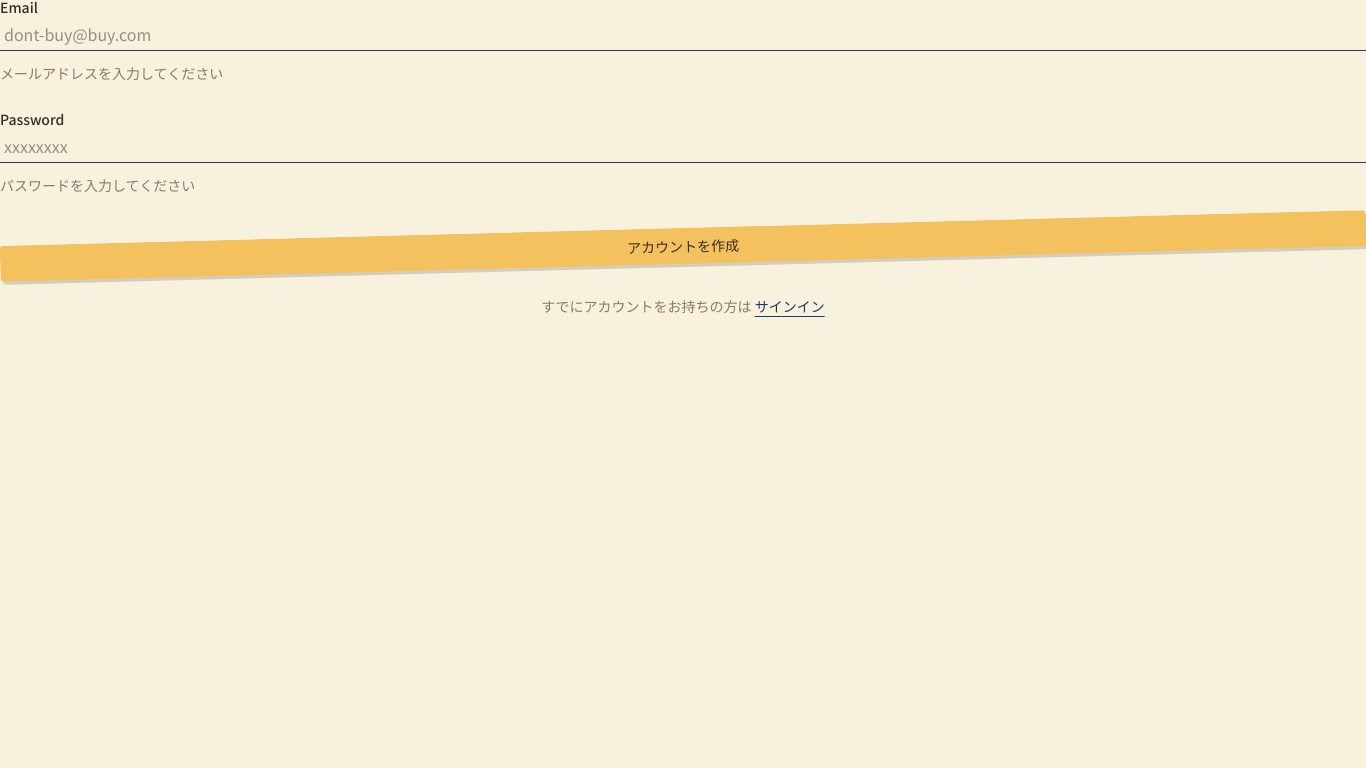
サインアップ › サインアップボタン押下後、エラーの場合トースト通知が表示される
Type "test@email.com" into the field labelled "Email" at (683, 34), box left=0, top=18, right=1365, bottom=50
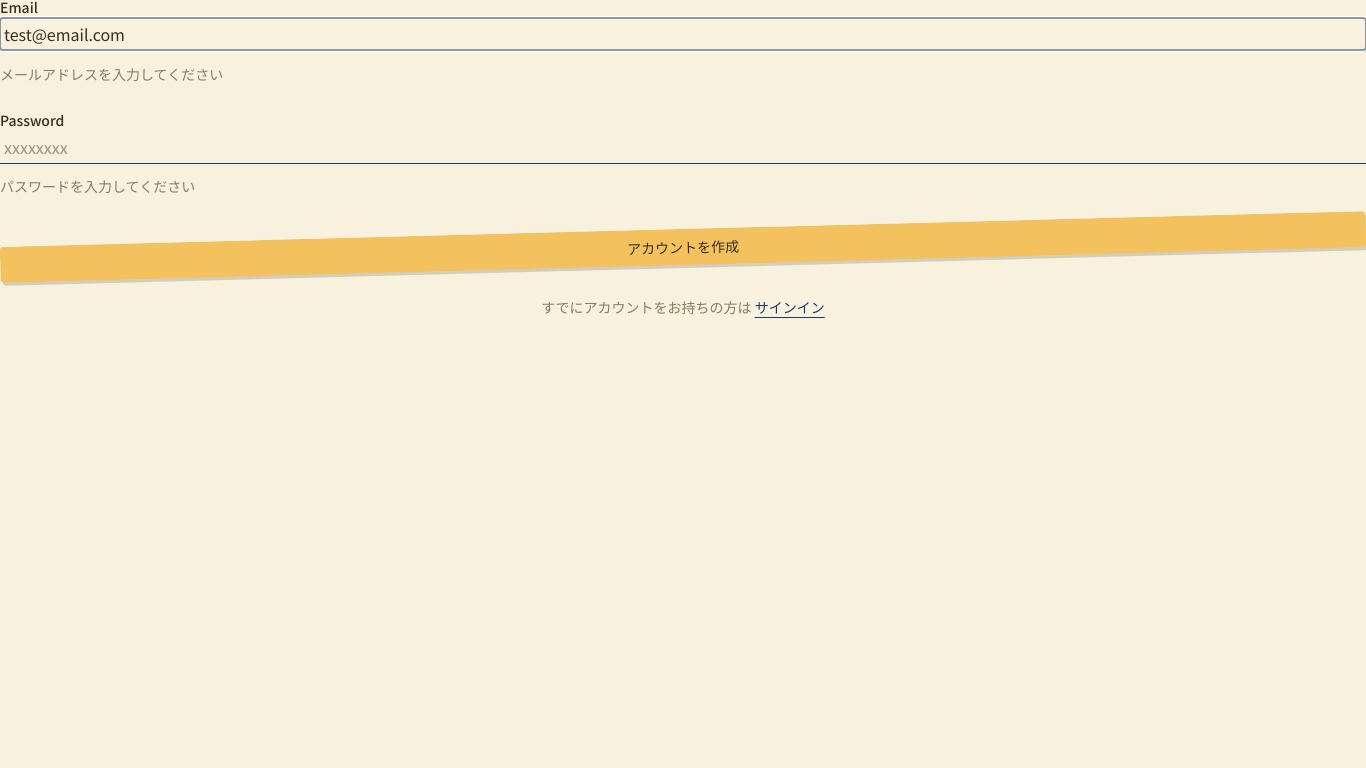
Type "test1234" into the password field labelled "Password" at (683, 147), box left=0, top=131, right=1365, bottom=163
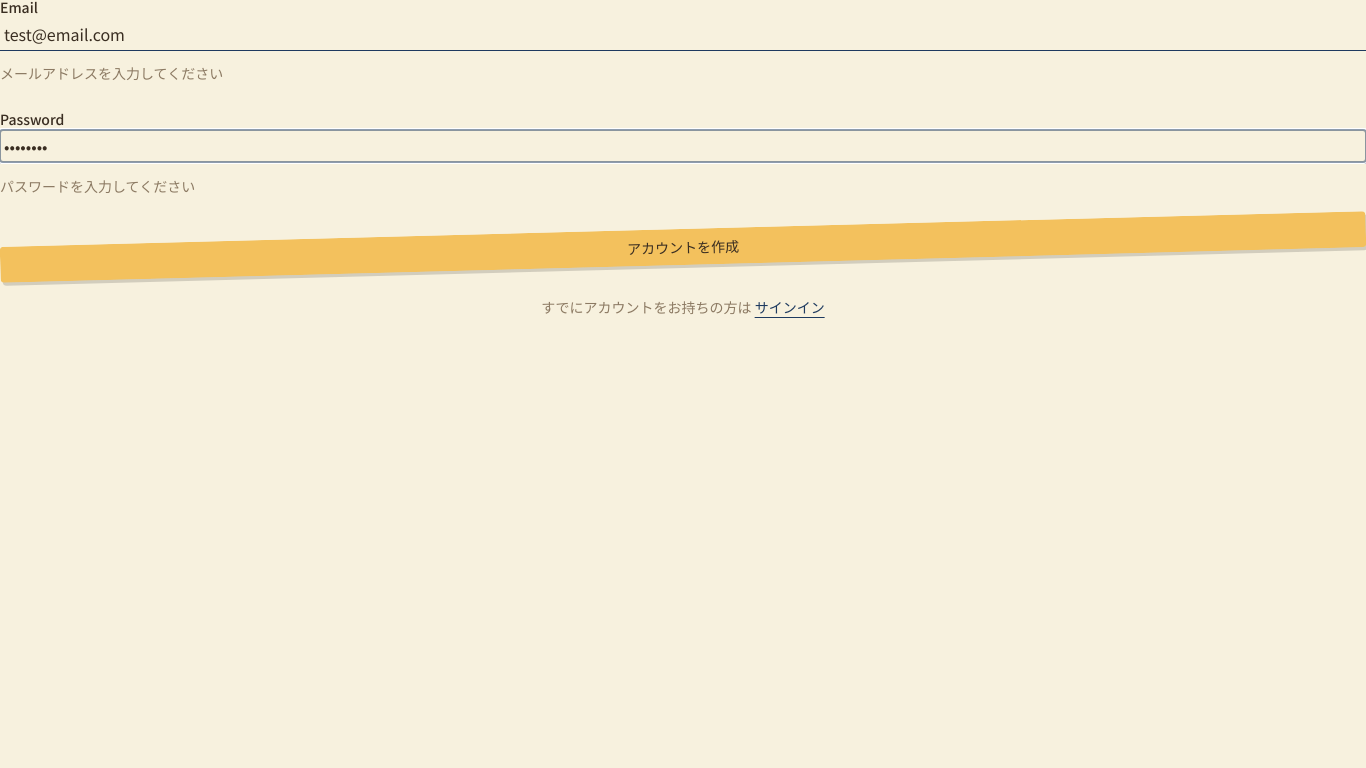
Click the button "アカウントを作成" at (683, 247), box left=0, top=211, right=1365, bottom=283
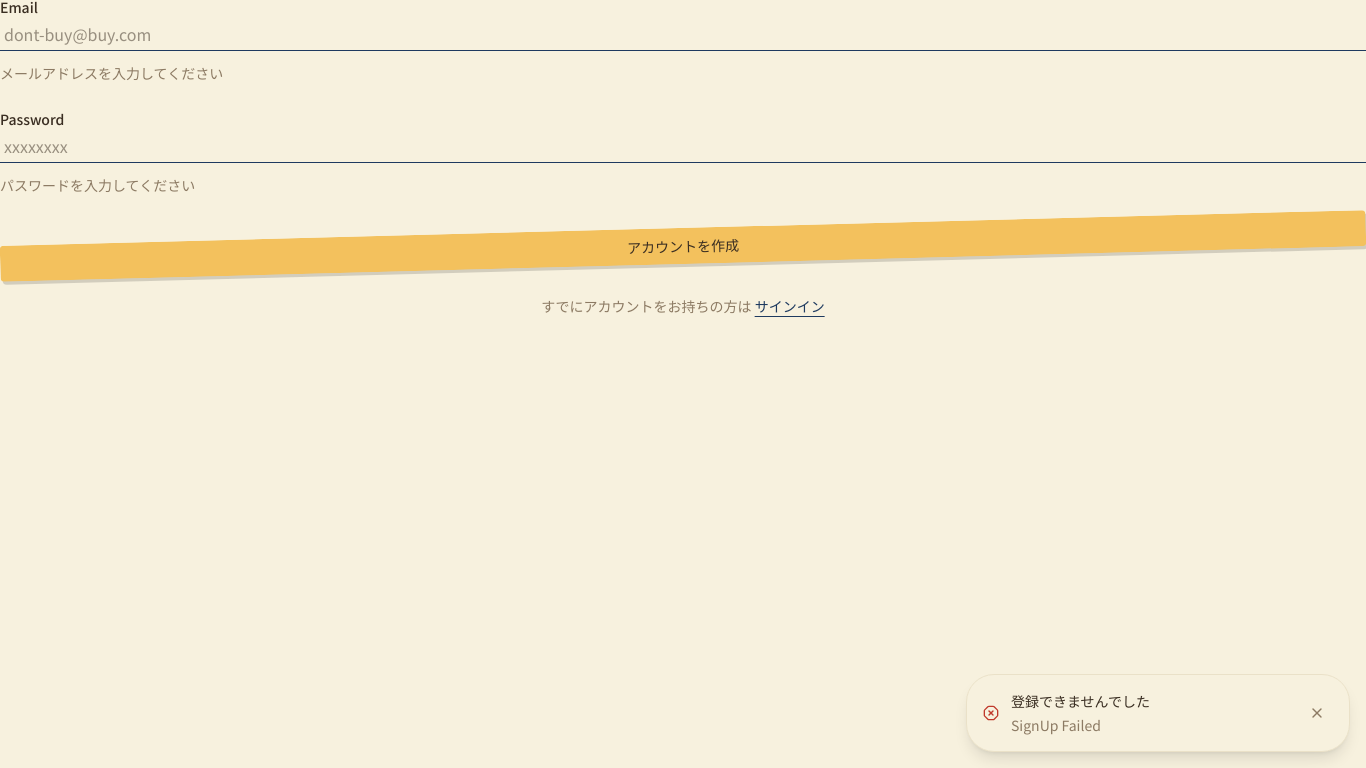
Check: the heading "登録できませんでした" is shown, box left=1011, top=691, right=1150, bottom=711
